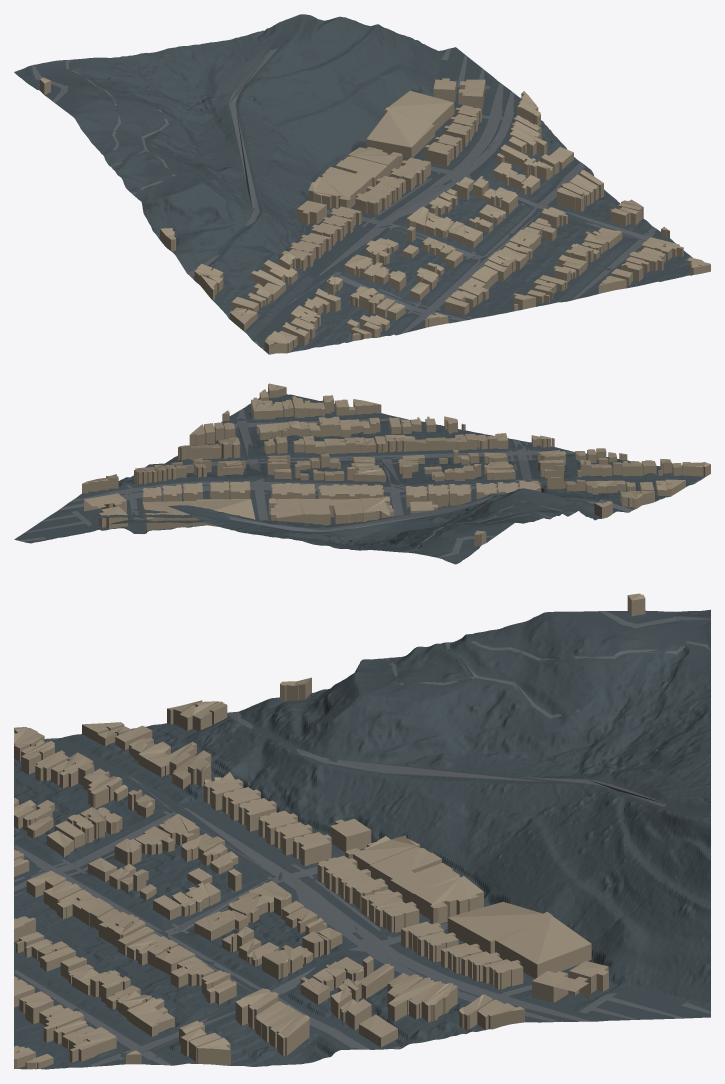
The model's file is epsg26910-1441-10871.lod0.glb.
The picture shows the model from 3 angles, top to bottom: view 1: azimuth 30°, elevation 25°; view 2: azimuth 150°, elevation 25°; view 3: azimuth 270°, elevation 25°; orthographic projection. The views are drawn at different scales.
Parts seen in each view (by area): view 1: epsg26910-1441-10871-lod0; view 2: epsg26910-1441-10871-lod0; view 3: epsg26910-1441-10871-lod0.
Part boxes in pixels (bbox=[...]): epsg26910-1441-10871-lod0: bbox=[14, 14, 710, 354]; epsg26910-1441-10871-lod0: bbox=[14, 383, 710, 564]; epsg26910-1441-10871-lod0: bbox=[14, 593, 710, 1069].
Bounding box in the file's own units: 384 × 110 × 384.
